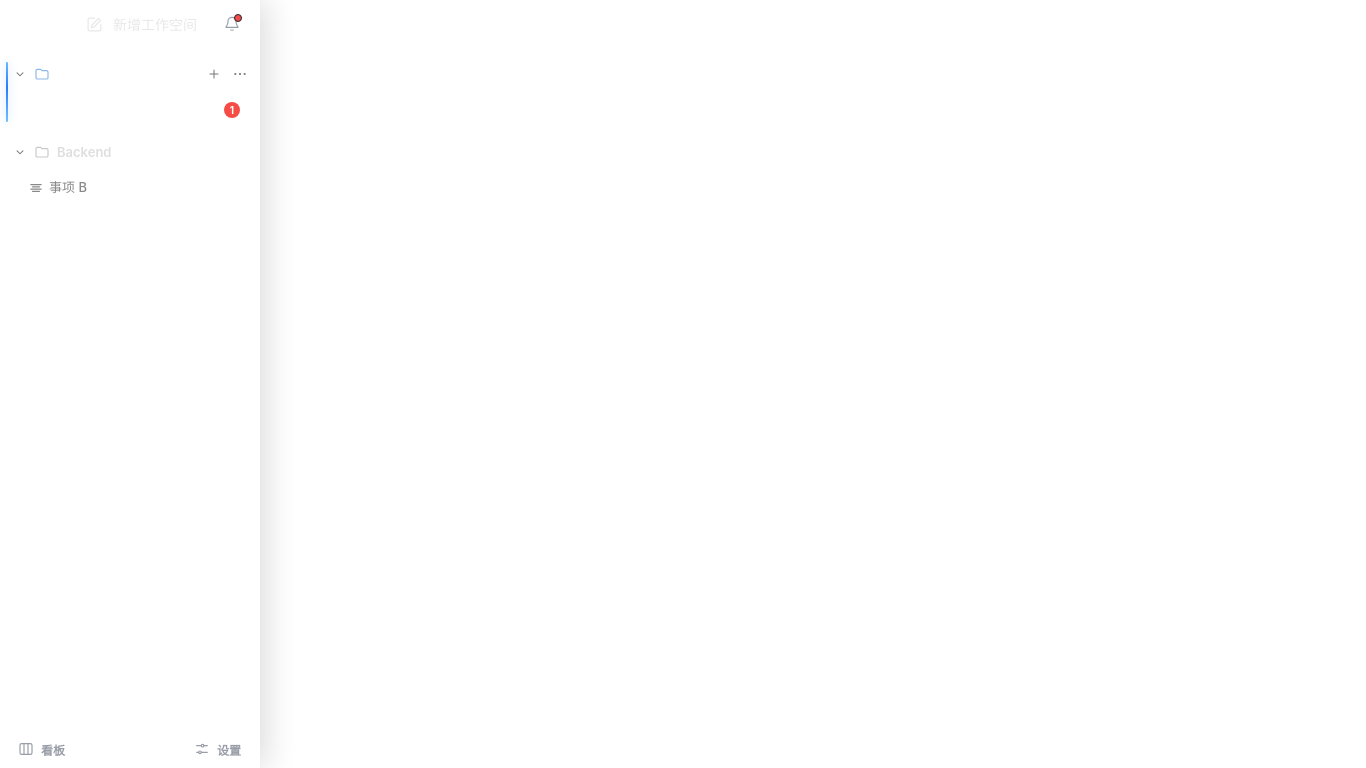
it: reference product notification hierarchy interactions › opens below the Workspace header, shows the approved Bell unread state, and closes outside or on Escape
Check: the element with class "flat-sidebar__notify-dot" is shown, box [234, 14, 242, 22]
Click the button named "通知中心" at (232, 24), box [217, 9, 247, 39]
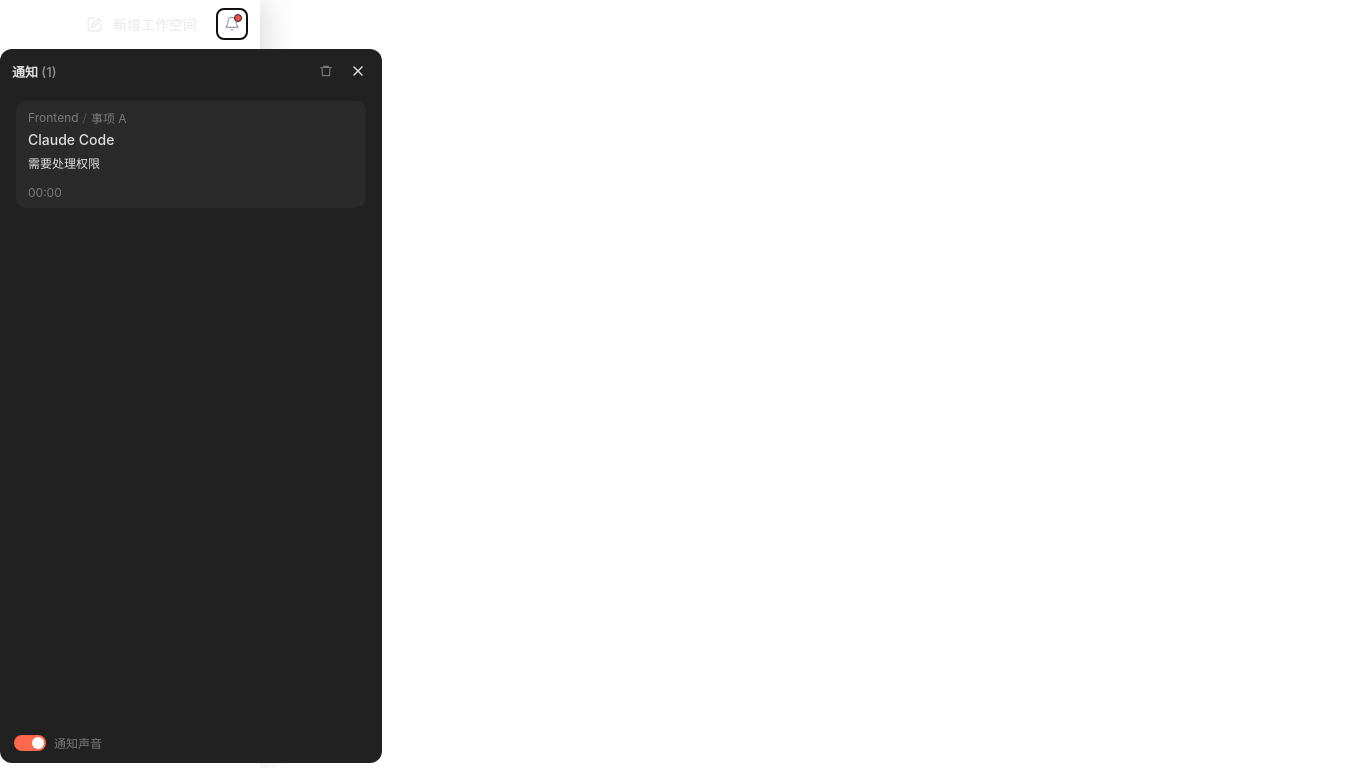
Check: the element named "通知中心" is shown, box [0, 49, 382, 763]
Press the mouse on the element that starts with "新增工作空间" at (683, 384), box [0, 0, 1365, 767]
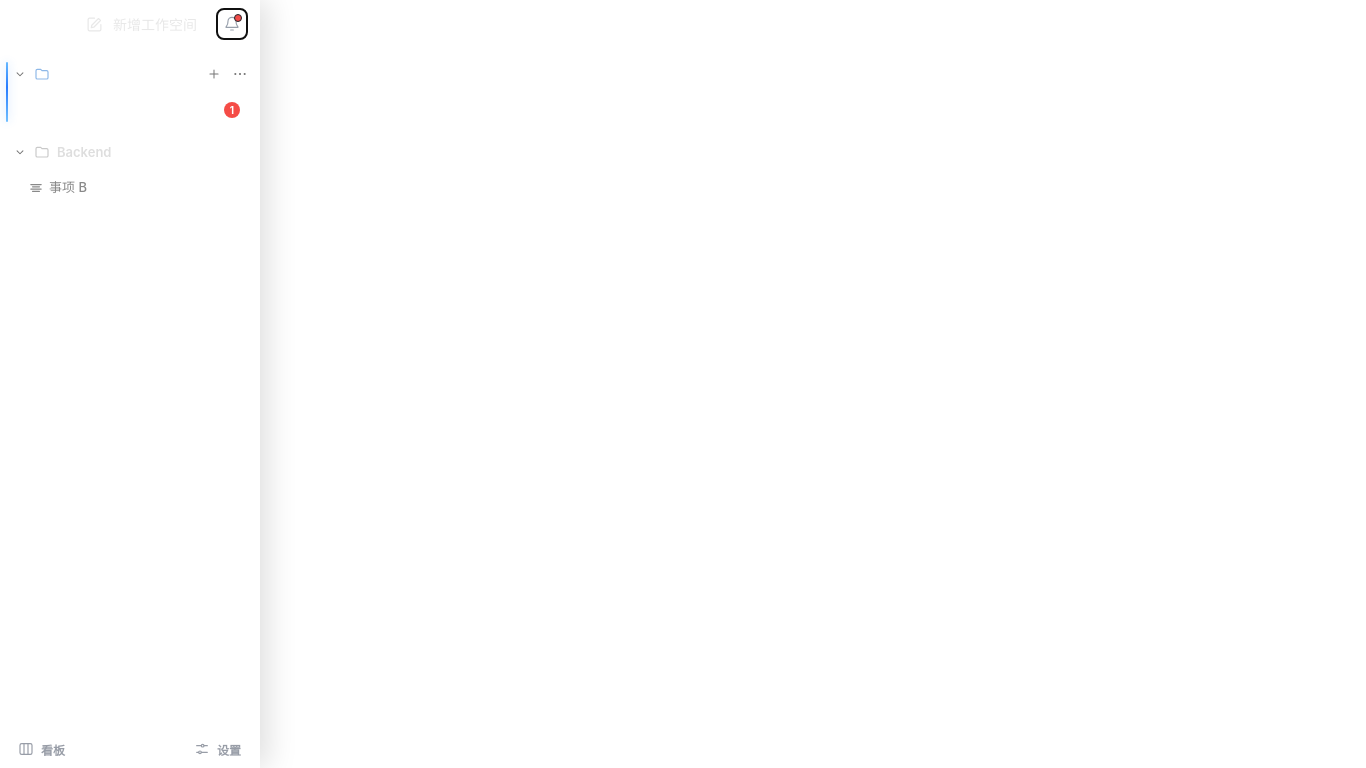
Check: the text "通知 (1) Frontend / 事项 A Claude Code 需要处理权限 00:00 通知声音" is gone
Click the button named "通知中心" at (232, 24), box [217, 9, 247, 39]
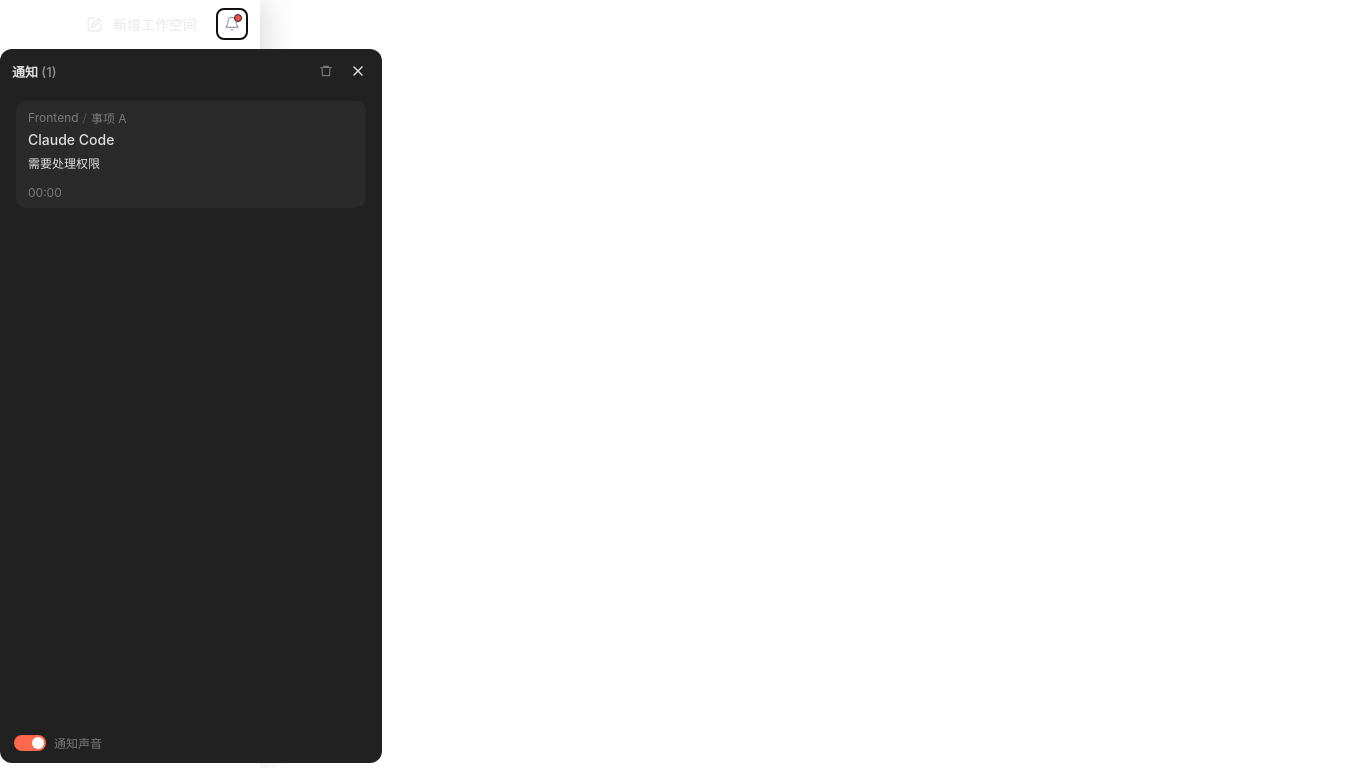
Press Escape
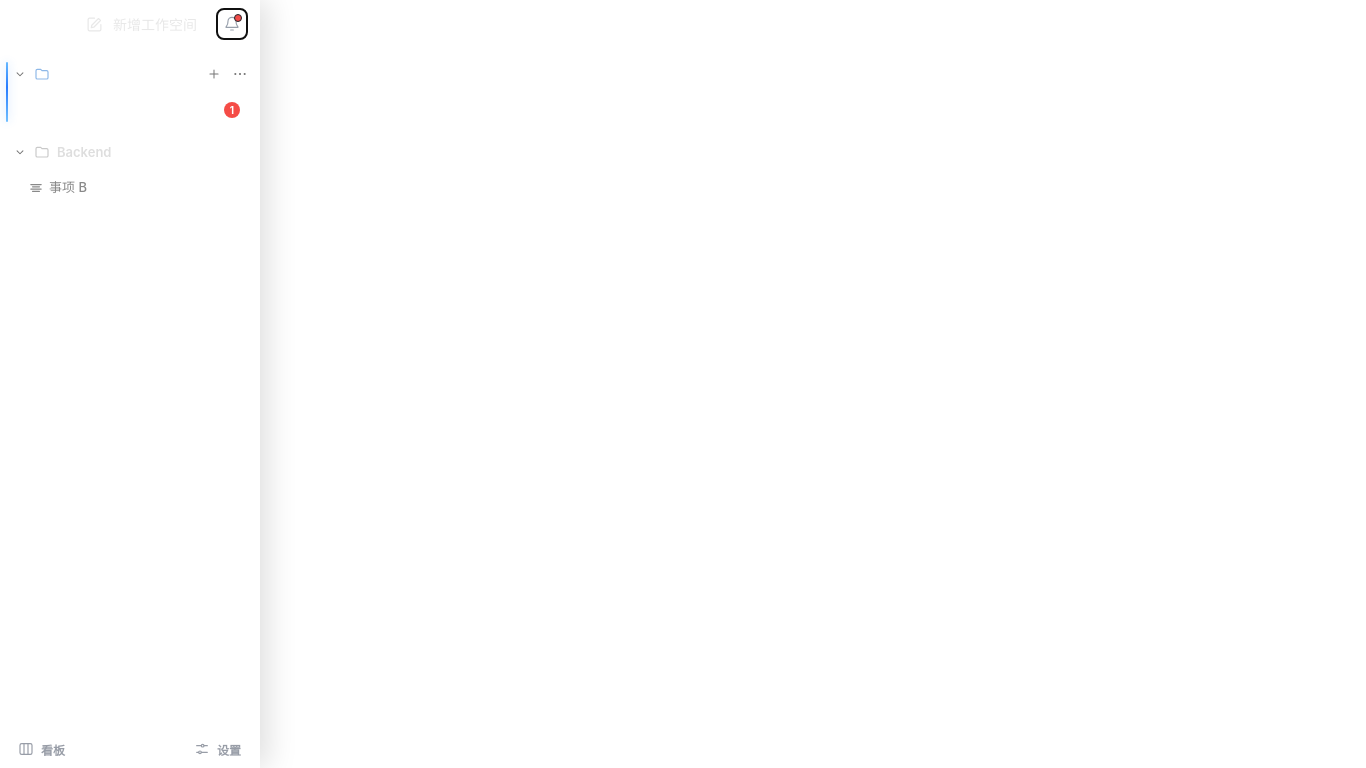
Check: the text "通知 (1) Frontend / 事项 A Claude Code 需要处理权限 00:00 通知声音" is gone
